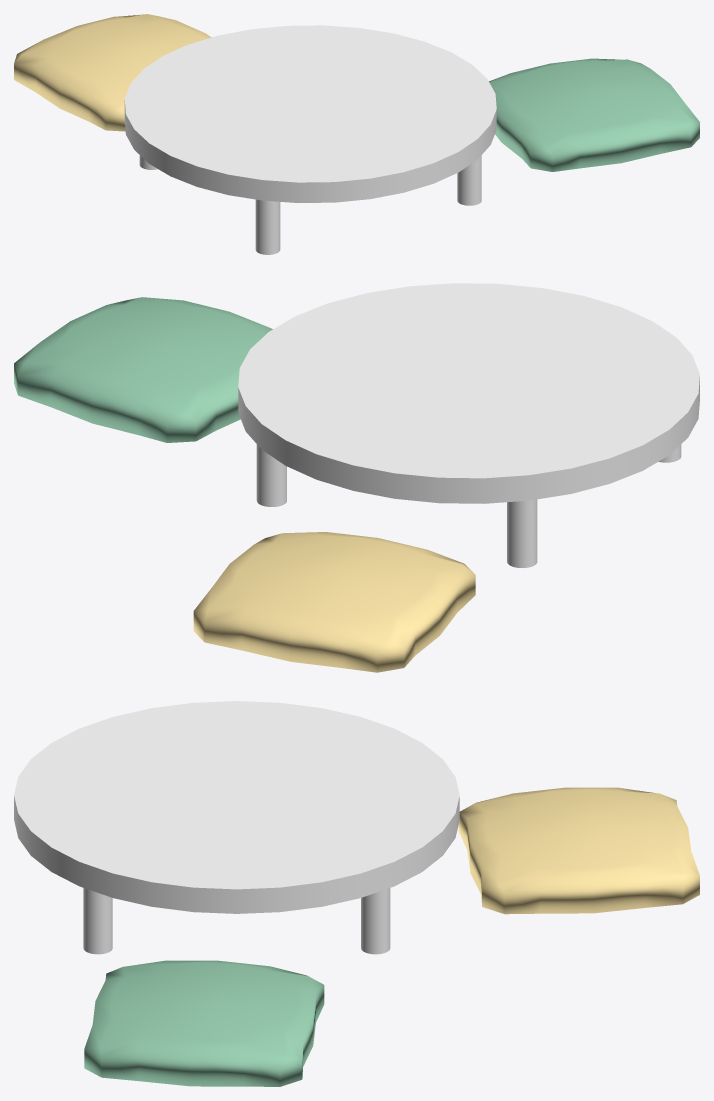
The model's file is test_table1.fbx.
3 renders of one model, top to bottom at view 1: azimuth 30°, elevation 25°; view 2: azimuth 150°, elevation 25°; view 3: azimuth 270°, elevation 25°, orthographic. The views are drawn at different scales.
Visible parts, largest first — view 1: Cylinder.015; view 2: Cylinder.015; view 3: Cylinder.015.
Part boxes in pixels (x1=…): Cylinder.015: x1=14, y1=14, x2=699, y2=254; Cylinder.015: x1=14, y1=283, x2=699, y2=672; Cylinder.015: x1=14, y1=701, x2=699, y2=1086.
Bounding box in the file's own units: 393 × 57.96 × 383.
